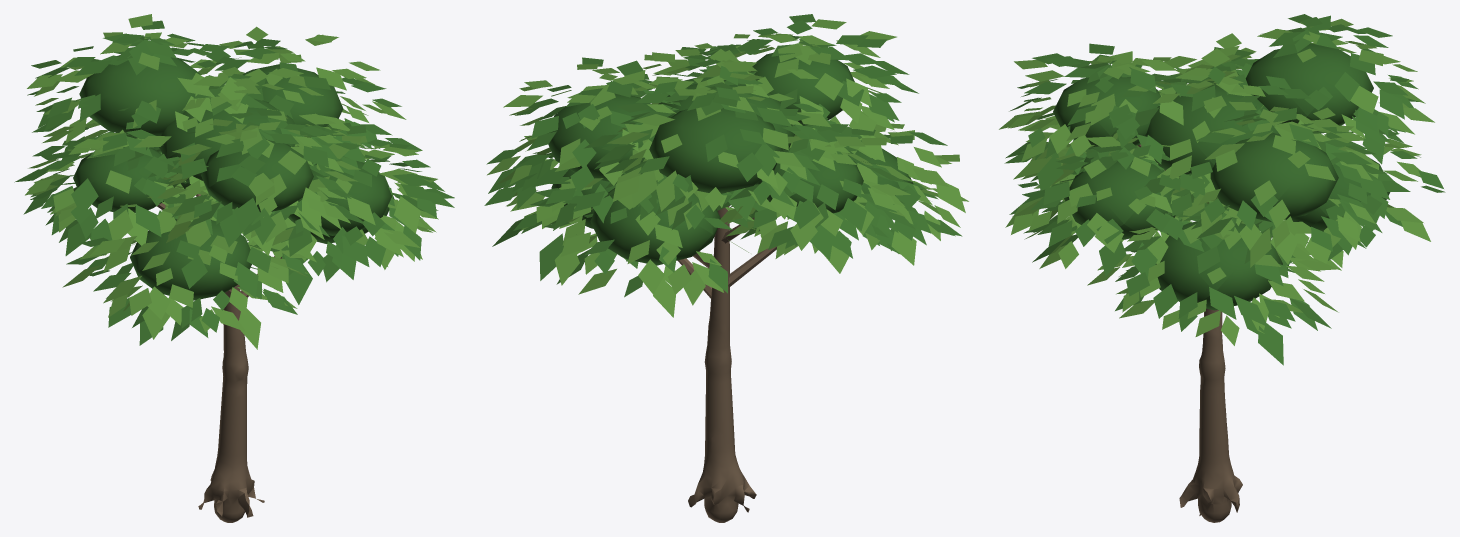
Rendered from tree.glb.
The picture shows the model from 3 angles, left to right: view 1: azimuth 30°, elevation 25°; view 2: azimuth 150°, elevation 25°; view 3: azimuth 270°, elevation 25°; orthographic projection. The views are drawn at different scales.
Visible parts, largest first — view 1: leaf_18, leaf2_19, bark_0, core_17, core_11, core_16, core_14, core_9, core_15, core_13; view 2: leaf2_19, leaf_18, bark_0, core_17, core_12, core_15, core_16, core_14, core_9, core_11; view 3: leaf_18, leaf2_19, core_15, bark_0, core_17, core_10, core_9, core_13, core_16, core_12.
Boxes of the visible parts, bbox=[...] form: leaf_18: bbox=[14, 20, 454, 345]; leaf2_19: bbox=[25, 14, 438, 349]; bark_0: bbox=[198, 284, 264, 522]; core_17: bbox=[79, 55, 200, 138]; core_11: bbox=[130, 219, 251, 300]; core_16: bbox=[201, 139, 313, 212]; core_14: bbox=[73, 147, 175, 212]; core_9: bbox=[159, 98, 297, 183]; core_15: bbox=[242, 64, 343, 137]; core_13: bbox=[288, 161, 391, 235]; leaf2_19: bbox=[487, 19, 968, 317]; leaf_18: bbox=[484, 14, 962, 297]; bark_0: bbox=[688, 206, 756, 522]; core_17: bbox=[649, 108, 782, 193]; core_12: bbox=[590, 188, 720, 265]; core_15: bbox=[548, 93, 655, 181]; core_16: bbox=[748, 52, 854, 125]; core_14: bbox=[756, 148, 863, 213]; core_9: bbox=[658, 80, 794, 149]; core_11: bbox=[848, 148, 913, 195]; leaf_18: bbox=[1004, 14, 1445, 365]; leaf2_19: bbox=[999, 18, 1434, 345]; core_15: bbox=[1210, 133, 1338, 222]; bark_0: bbox=[1179, 308, 1242, 522]; core_17: bbox=[1243, 43, 1373, 131]; core_10: bbox=[1155, 221, 1282, 310]; core_9: bbox=[1145, 83, 1281, 176]; core_13: bbox=[1064, 160, 1175, 239]; core_16: bbox=[1053, 76, 1160, 146]; core_12: bbox=[1286, 157, 1390, 231].
Bounding box in the file's own units: 9.28 × 10.58 × 9.06.
